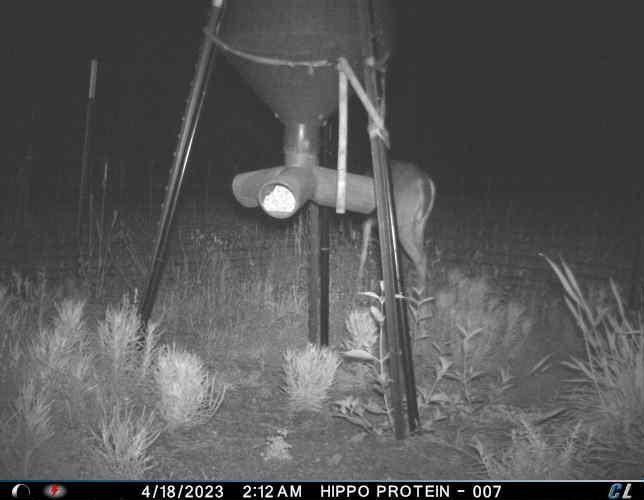Deer: (353, 156, 438, 297)
